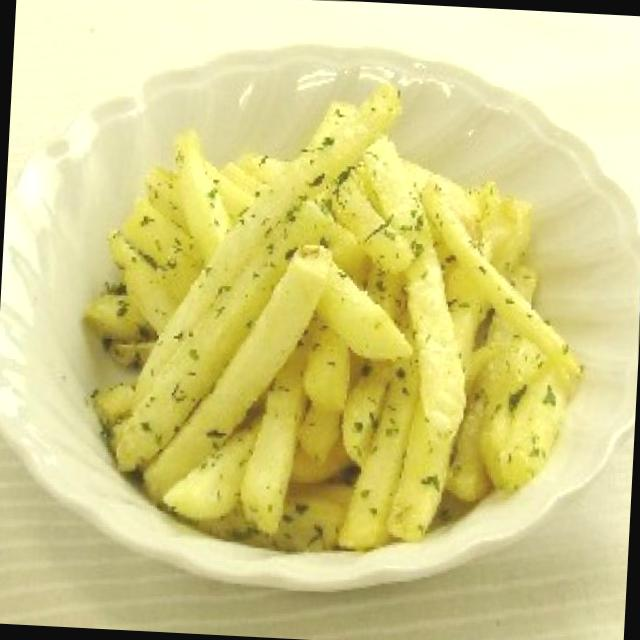French Fries: (88, 78, 578, 536)
